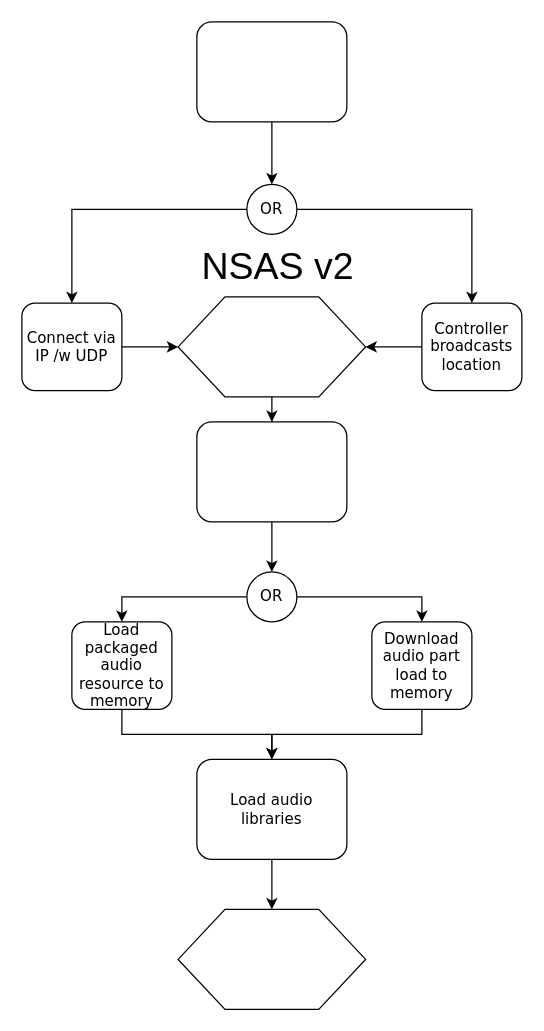
Some shapes in this 544 by 1031 pixel diagram are drawn without their labels. The shapes that lost their labels are listed below. From the top down, each one's centre as x and y in pixels, then its label:
At (271,71): "Host Execution".
At (271,346): "Heartbeat to keep routes updated".
At (271,471): "Controller identifies latency to host and both keep average".
At (271,958): "Wait for execution".
